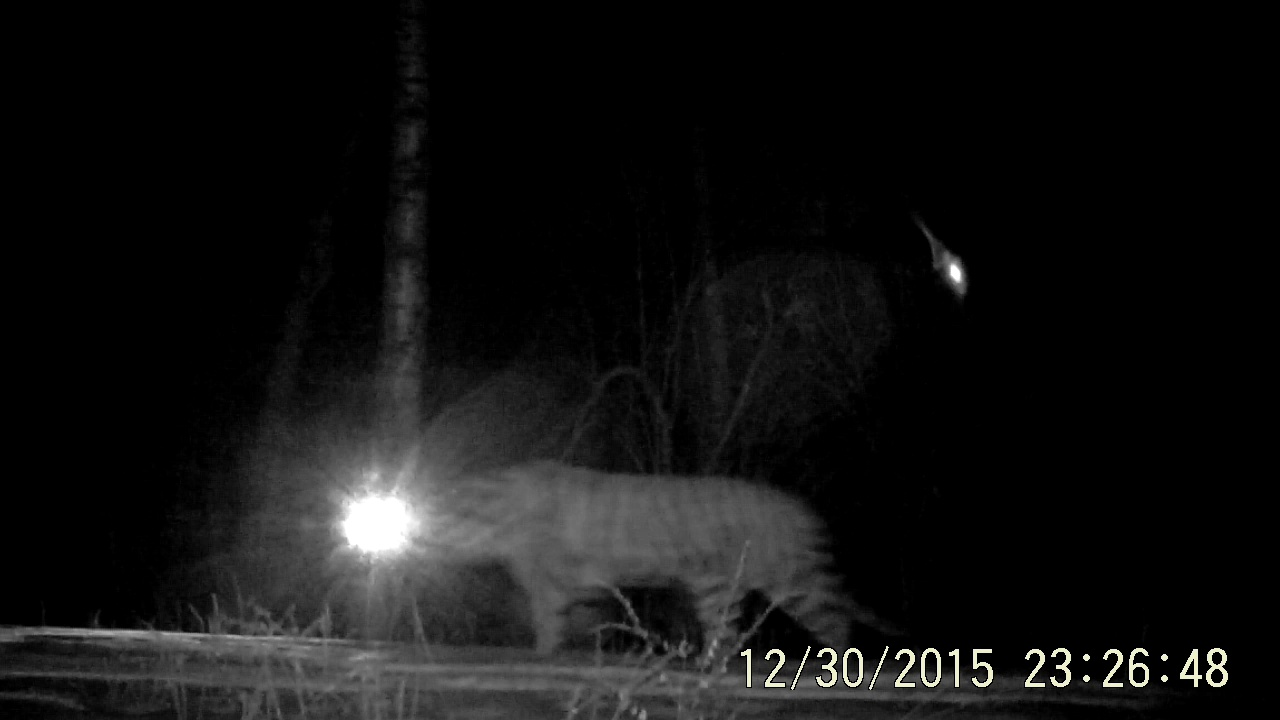Tiger: (342, 335, 889, 701)
